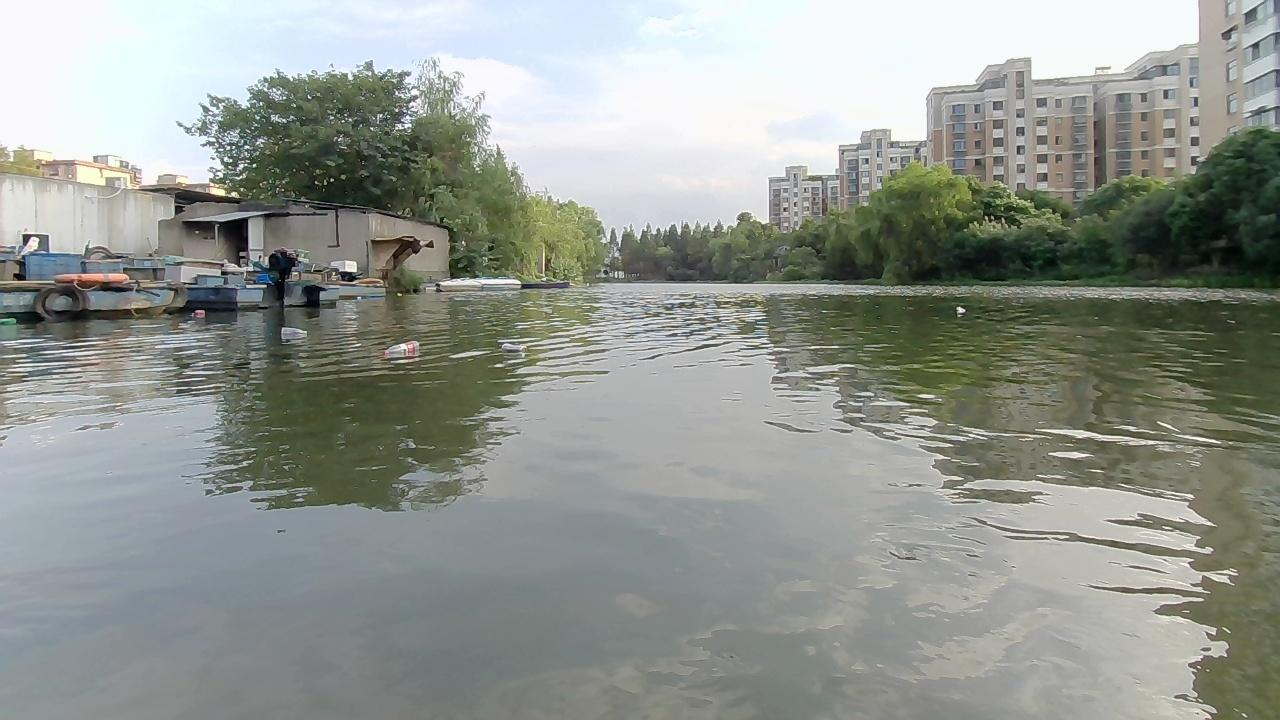bottle: (378, 338, 418, 363), (501, 340, 528, 358), (282, 323, 305, 343), (947, 304, 968, 314), (192, 308, 209, 317)
